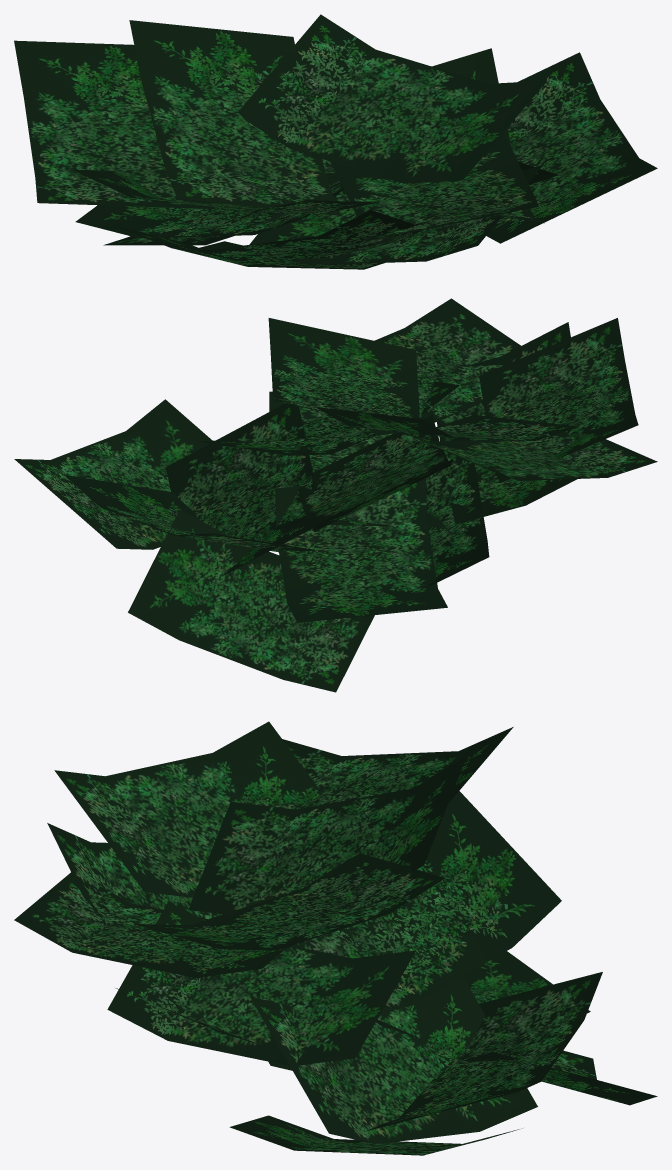
Rendered from jungle_canopy.fbx.
3 views of the same model, one above another, from view 1: azimuth 30°, elevation 25°; view 2: azimuth 150°, elevation 25°; view 3: azimuth 270°, elevation 25° (orthographic). The views are drawn at different scales.
Parts seen in each view (by area): view 1: canopy_11, canopy_13, canopy_10, canopy_15, canopy_12, canopy_2, canopy_6, canopy_7, canopy_8, canopy_16, canopy_4, canopy_5 (+1 smaller); view 2: canopy_5, canopy_6, canopy_1, canopy_8, canopy_11, canopy_15, canopy_12, canopy_3, canopy_10, canopy_4, canopy_7, canopy_16 (+3 smaller); view 3: canopy_9, canopy_3, canopy_8, canopy_1, canopy_13, canopy_16, canopy_11, canopy_12, canopy_10, canopy_7, canopy_15, canopy_5 (+1 smaller).
Boxes of the visible parts, <box> form: canopy_11: <box>238,14,546,183</box>; canopy_13: <box>129,20,341,215</box>; canopy_10: <box>14,40,210,208</box>; canopy_15: <box>486,52,657,243</box>; canopy_12: <box>330,132,538,240</box>; canopy_2: <box>249,164,543,264</box>; canopy_6: <box>75,180,343,238</box>; canopy_7: <box>145,210,431,264</box>; canopy_8: <box>72,169,378,214</box>; canopy_16: <box>322,48,511,167</box>; canopy_4: <box>113,225,385,269</box>; canopy_5: <box>103,235,234,245</box>; canopy_5: <box>128,509,374,692</box>; canopy_6: <box>275,478,447,622</box>; canopy_1: <box>165,403,316,576</box>; canopy_8: <box>479,318,638,482</box>; canopy_11: <box>268,318,419,418</box>; canopy_15: <box>14,399,212,549</box>; canopy_12: <box>368,298,520,435</box>; canopy_3: <box>297,415,453,531</box>; canopy_10: <box>394,428,657,480</box>; canopy_4: <box>365,438,489,617</box>; canopy_7: <box>437,322,577,524</box>; canopy_16: <box>64,475,318,552</box>; canopy_9: <box>107,902,415,1065</box>; canopy_3: <box>245,791,561,1012</box>; canopy_8: <box>54,721,322,897</box>; canopy_1: <box>250,976,537,1143</box>; canopy_13: <box>188,757,466,914</box>; canopy_16: <box>366,972,602,1131</box>; canopy_11: <box>134,853,445,950</box>; canopy_12: <box>14,872,287,977</box>; canopy_10: <box>256,727,513,809</box>; canopy_7: <box>47,823,222,920</box>; canopy_15: <box>229,1115,521,1155</box>; canopy_5: <box>457,1050,657,1105</box>.
Bounding box in the file's own units: 33025 × 13710 × 28151.
1 material, 1 textured.
